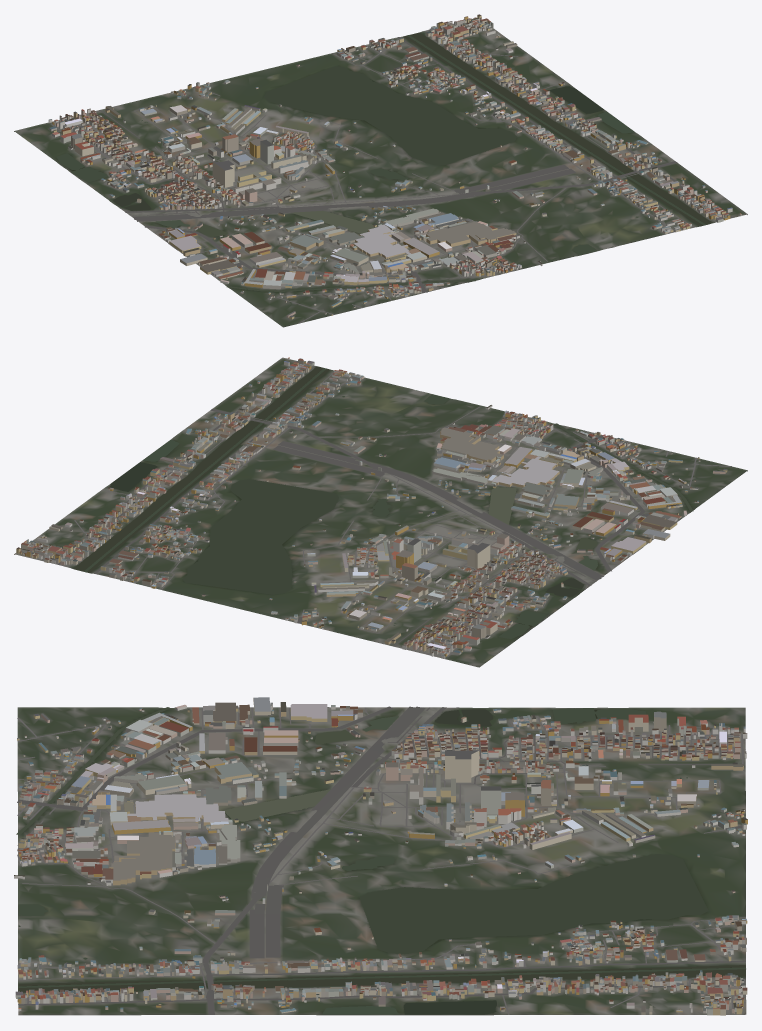
The picture shows the model from 3 angles, top to bottom: view 1: azimuth 30°, elevation 25°; view 2: azimuth 150°, elevation 25°; view 3: azimuth 270°, elevation 25°; orthographic projection. The views are drawn at different scales.
Parts seen in each view (by area): view 1: ground, buildings, water, roads; view 2: ground, buildings, water, roads; view 3: ground, buildings, water, roads.
Boxes of the visible parts, x1,y1,x2,y2 form: ground: (14, 22, 747, 327); buildings: (48, 14, 741, 319); water: (56, 32, 712, 291); roads: (51, 30, 732, 323); ground: (14, 357, 747, 667); buildings: (16, 357, 727, 658); water: (73, 366, 693, 638); roads: (32, 361, 731, 656); ground: (17, 707, 746, 1015); buildings: (14, 697, 747, 1015); water: (16, 707, 745, 1014); roads: (17, 706, 745, 1014).
Bounding box in the file's own units: 1431 × 56.59 × 1413.
